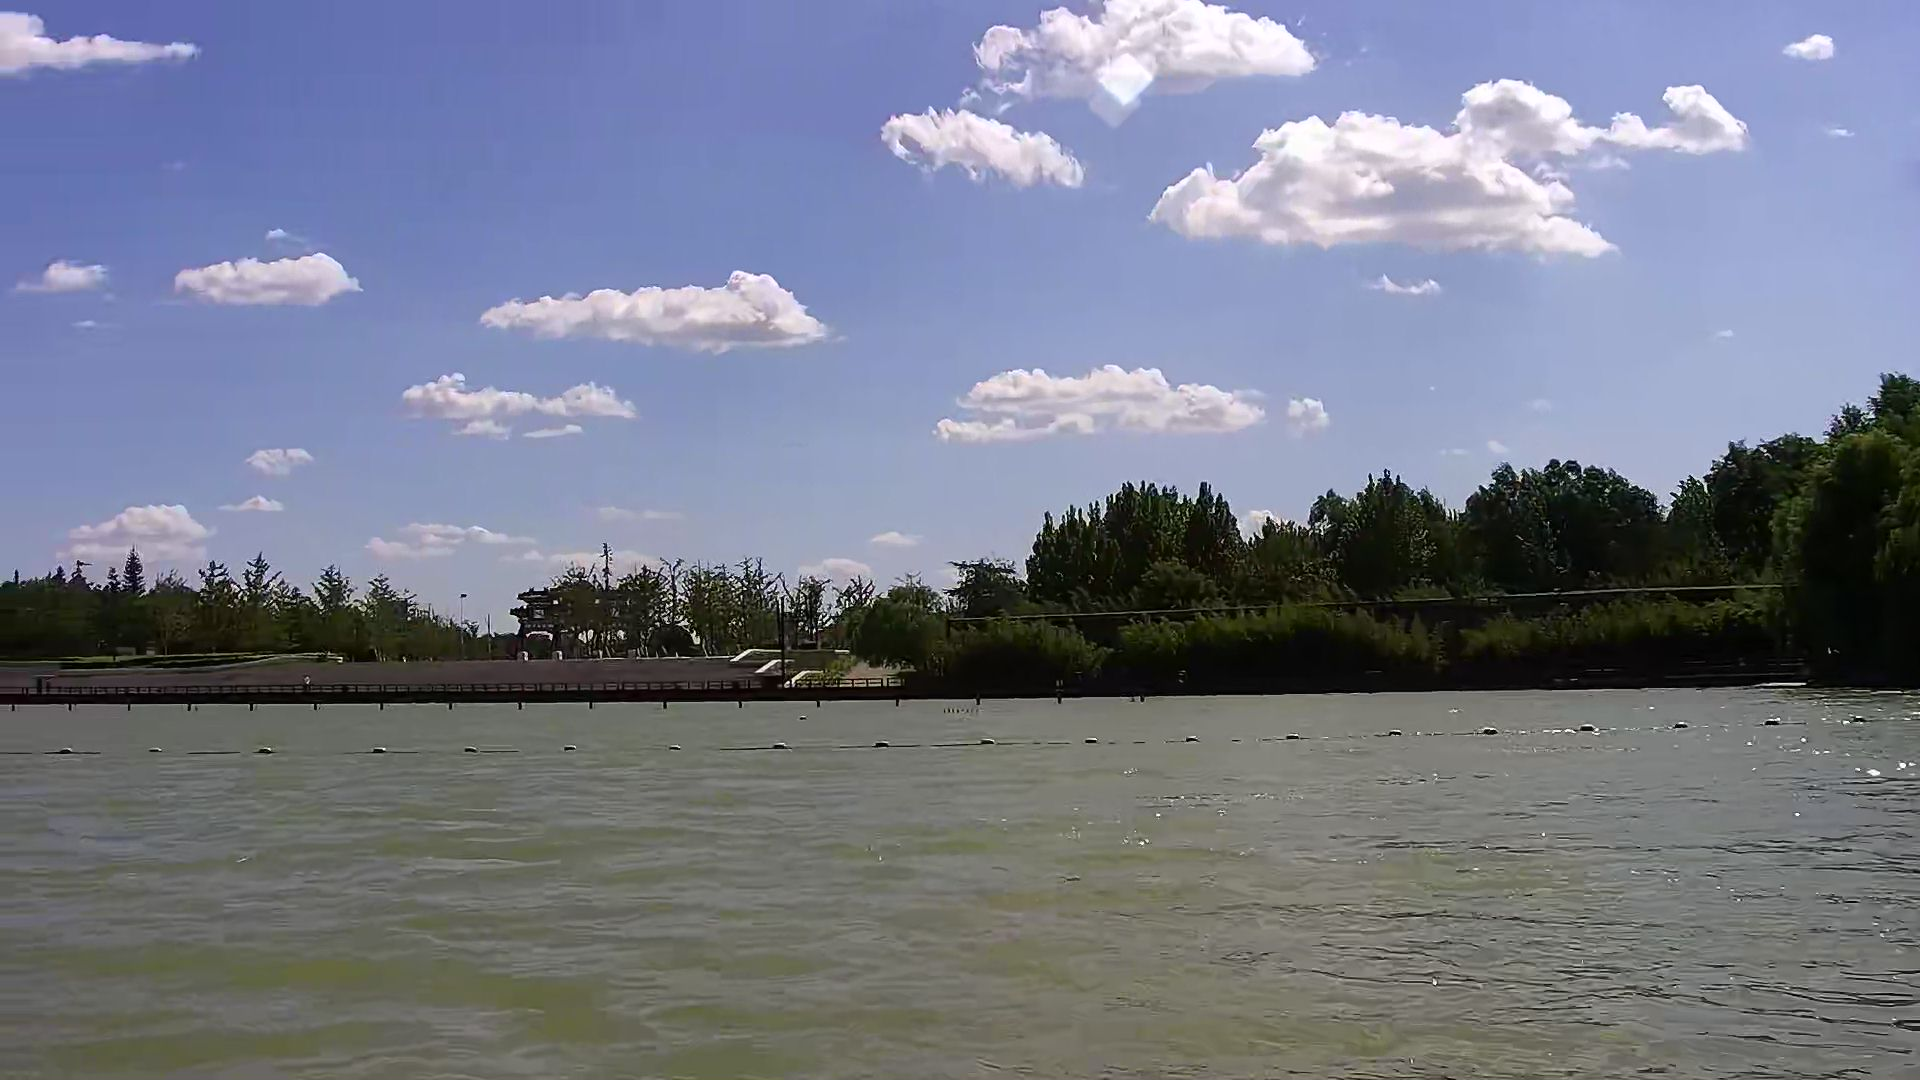ball: (1470, 715, 1509, 741), (964, 731, 1001, 756), (248, 738, 281, 764), (459, 738, 487, 765), (1276, 725, 1313, 745), (53, 735, 80, 758), (870, 732, 895, 756)
harbor: (1, 659, 918, 704)
